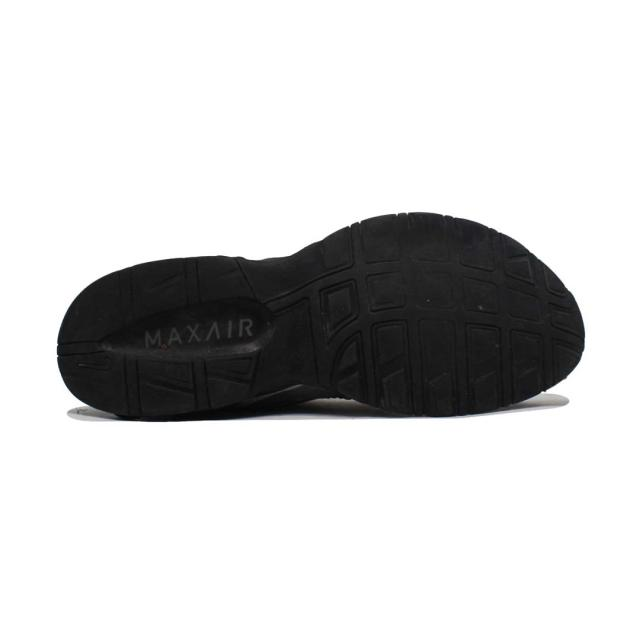outersole: (58, 214, 587, 426)
